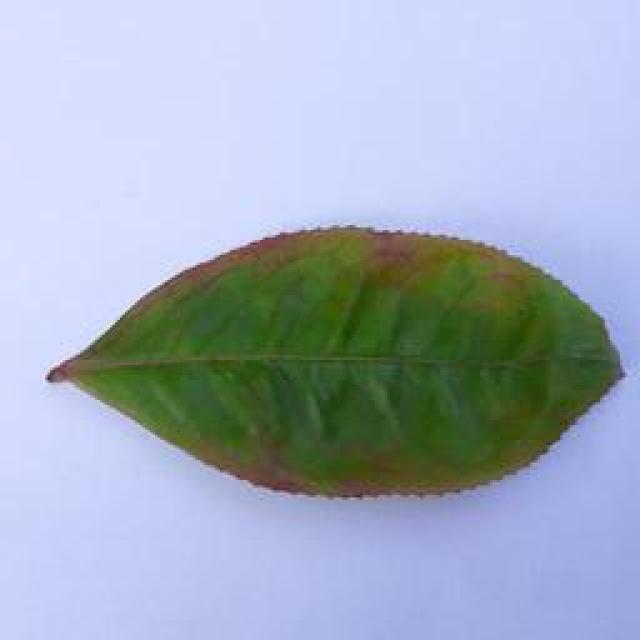Red Leaf Spot: (51, 220, 639, 504)
